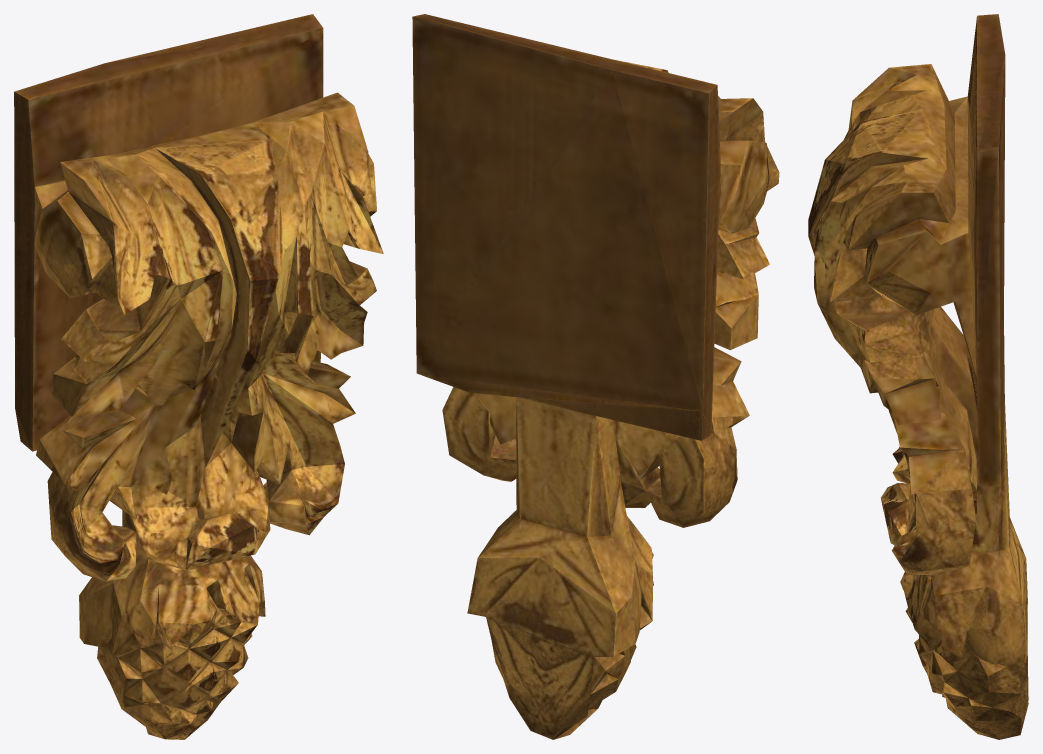
Rendered from drop.glb.
3 renders of one model, left to right at view 1: azimuth 30°, elevation 25°; view 2: azimuth 150°, elevation 25°; view 3: azimuth 270°, elevation 25°, orthographic. The views are drawn at different scales.
Parts seen in each view (by area): view 1: Mesh_0; view 2: Mesh_0; view 3: Mesh_0.
Part boxes in pixels (x1,y1,x2,y2): Mesh_0: [14, 14, 383, 739]; Mesh_0: [412, 14, 779, 739]; Mesh_0: [808, 14, 1028, 739].
Size of the model in its own units: 0.8794 by 1.88 by 0.5769.
Materials: 1 (1 with a texture image).
